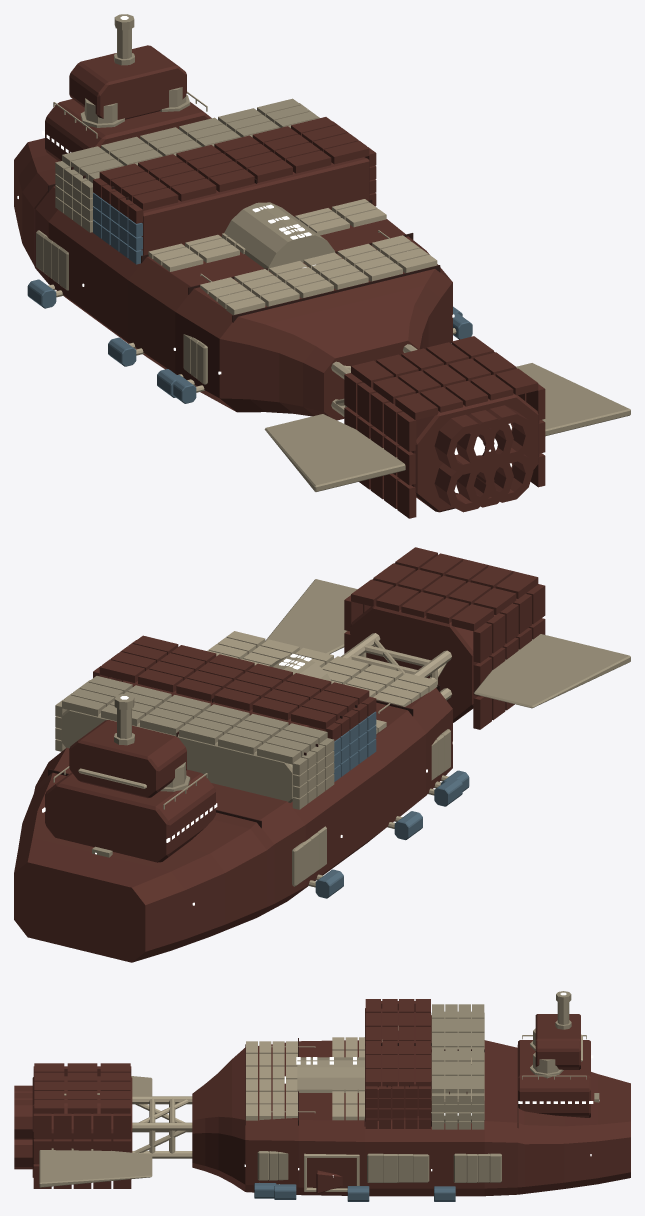
The picture shows the model from 3 angles, top to bottom: view 1: azimuth 30°, elevation 25°; view 2: azimuth 150°, elevation 25°; view 3: azimuth 270°, elevation 25°; orthographic projection. The views are drawn at different scales.
Visible parts, largest first — view 1: RIMWARD_HULL; view 2: RIMWARD_HULL; view 3: RIMWARD_HULL, RIMWARD_EMISSIVE.
Boxes of the visible parts, bbox=[...] form: RIMWARD_HULL: bbox=[14, 14, 630, 518]; RIMWARD_HULL: bbox=[14, 547, 630, 962]; RIMWARD_HULL: bbox=[14, 991, 630, 1201]; RIMWARD_EMISSIVE: bbox=[244, 992, 599, 1177].
Bounding box in the file's own units: 13.21 × 9.48 × 29.7.
